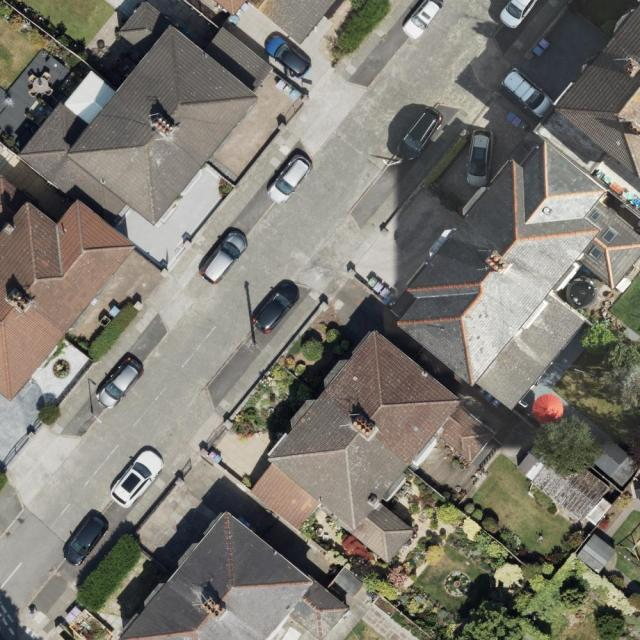roof: (0, 0, 275, 403), (385, 135, 640, 423), (248, 325, 497, 564), (120, 505, 352, 640), (552, 0, 640, 181)
skylight: (586, 245, 606, 263), (600, 227, 618, 245), (588, 208, 605, 225)
